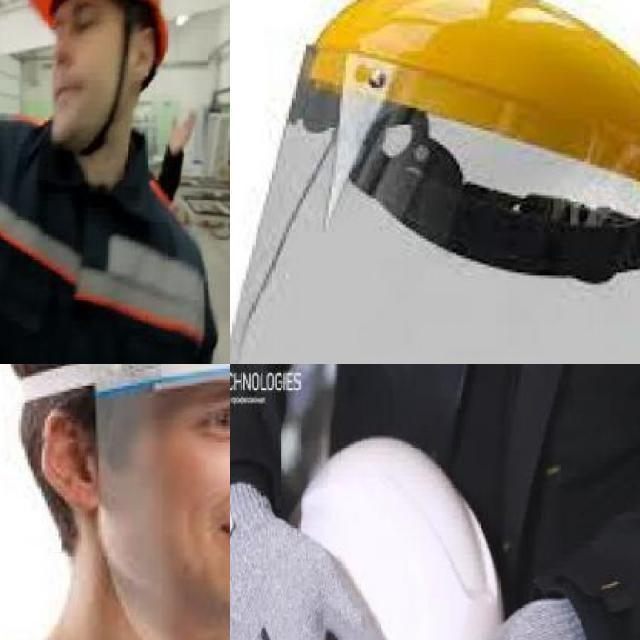apron: (230, 478, 405, 640), (409, 591, 598, 640)
